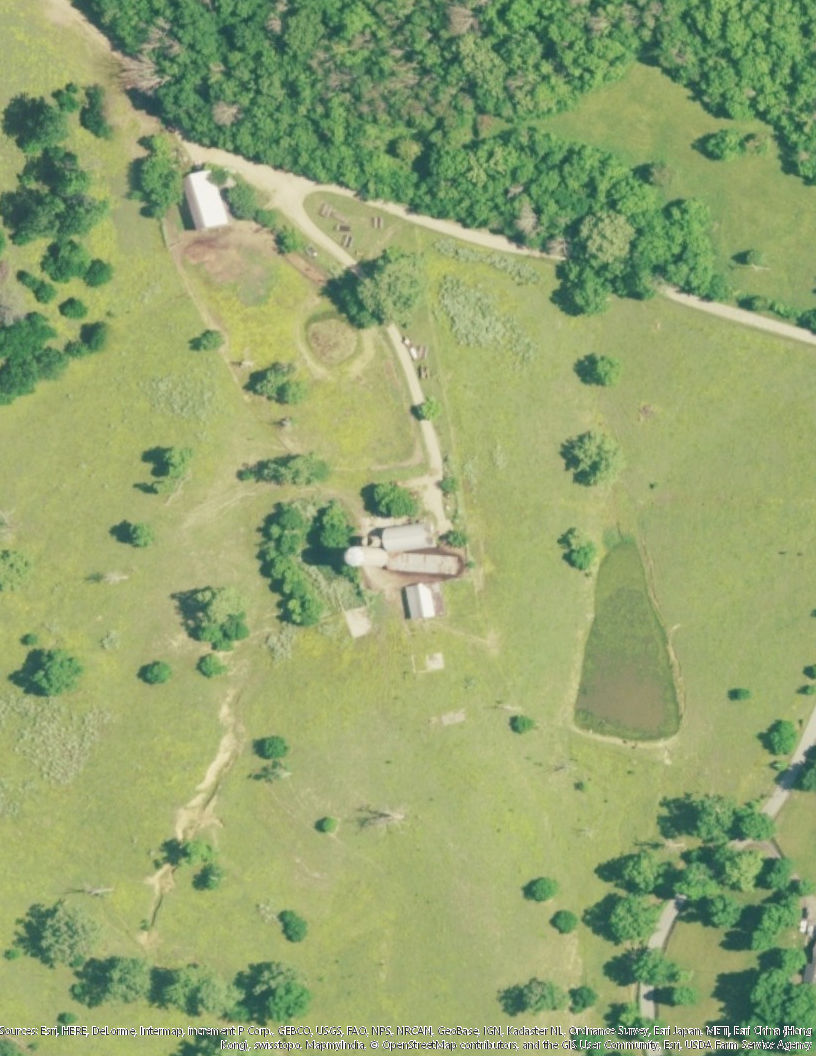cafo: (352, 522, 464, 577)
